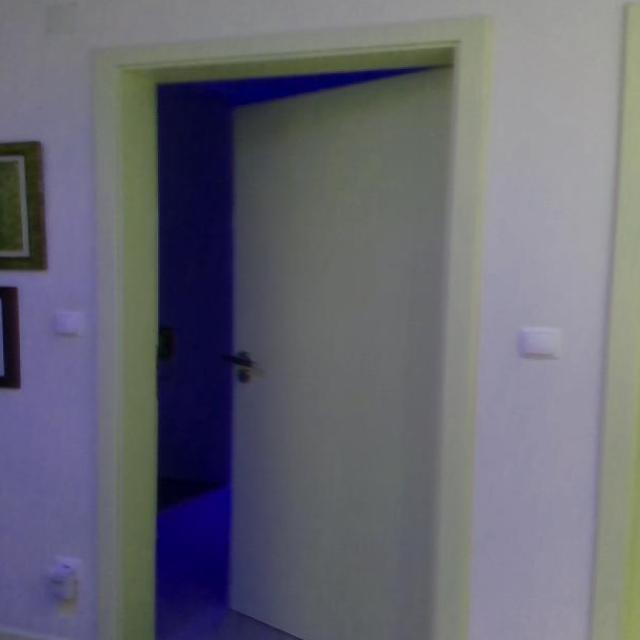door: (225, 65, 469, 638)
